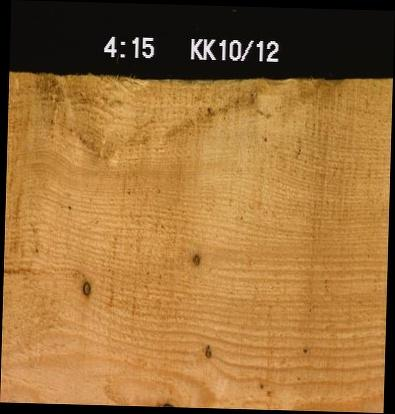dry_knot: (190, 251, 201, 267)
small_knot: (200, 343, 212, 358)
